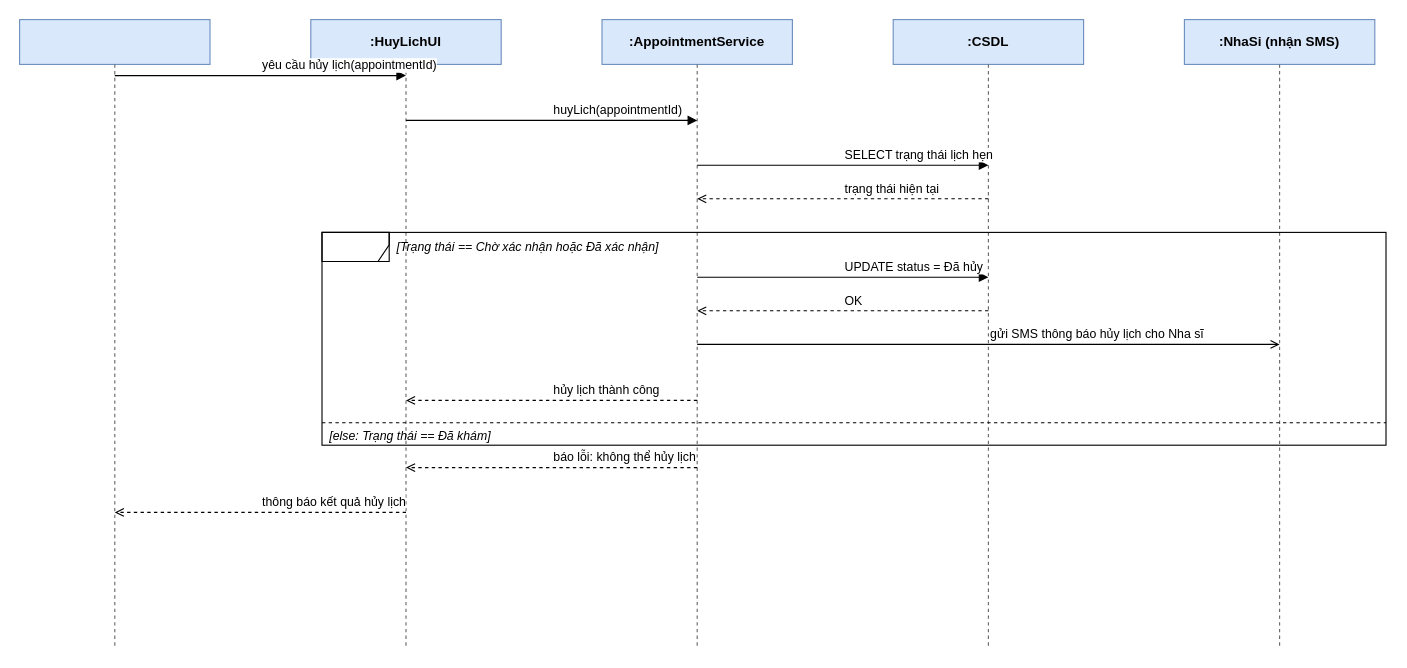
This 1407x668 diagram has some shape labels left out. The centre of each missing label's shape, as x and y in pixels:
":BenhNhan" belongs at (x=114, y=41).
"alt" belongs at (x=355, y=246).
